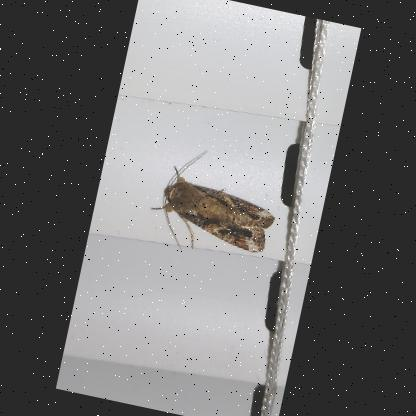Fall Armyworm Moth: (141, 138, 287, 270)
